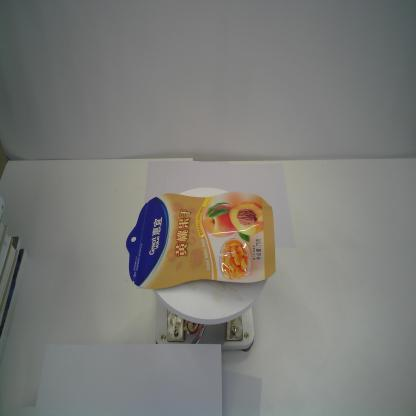Dried Fruit: (124, 188, 275, 292)
